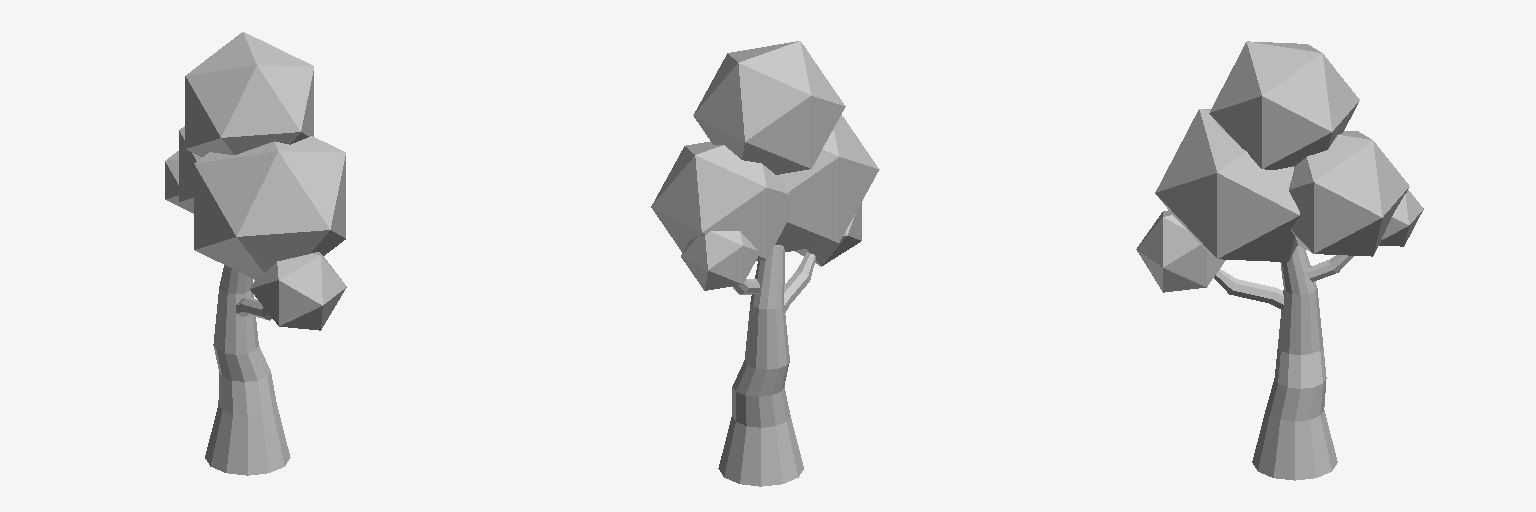
File: Tree2.obj
3 renders of one model, left to right at view 1: azimuth 30°, elevation 25°; view 2: azimuth 150°, elevation 25°; view 3: azimuth 270°, elevation 25°, orthographic.
Parts seen in each view (by area): view 1: Tree2 Leaves3, Tree2 Leaves1, Tree1 Tree2, Tree2 Leave5, Tree2 Leaves2, Tree2 Leaves4; view 2: Tree2 Leaves1, Tree1 Tree2, Tree2 Leaves2, Tree2 Leaves3, Tree2 Leaves4, Tree2 Leave5, Tree2 Branch1; view 3: Tree2 Leaves3, Tree2 Leaves1, Tree1 Tree2, Tree2 Leaves2, Tree2 Leave5, Tree2 Leaves4, Tree2 Branch1, Tree2 Branch.
Boxes of the visible parts, box(x1,y1,x2,y2) form: Tree2 Leaves3: box(194, 136, 345, 279); Tree2 Leaves1: box(185, 32, 313, 156); Tree1 Tree2: box(205, 265, 290, 475); Tree2 Leave5: box(250, 252, 346, 330); Tree2 Leaves2: box(179, 126, 201, 208); Tree2 Leaves4: box(165, 151, 193, 213); Tree2 Leaves1: box(693, 41, 845, 174); Tree1 Tree2: box(718, 245, 803, 486); Tree2 Leaves2: box(651, 141, 790, 260); Tree2 Leaves3: box(775, 114, 879, 251); Tree2 Leaves4: box(681, 231, 757, 290); Tree2 Leave5: box(795, 203, 861, 266); Tree2 Branch1: box(784, 252, 815, 312); Tree2 Leaves3: box(1155, 109, 1299, 261); Tree2 Leaves1: box(1209, 41, 1359, 169); Tree1 Tree2: box(1252, 245, 1337, 480); Tree2 Leaves2: box(1289, 131, 1409, 256); Tree2 Leave5: box(1136, 210, 1225, 292); Tree2 Leaves4: box(1379, 190, 1423, 246); Tree2 Branch1: box(1214, 269, 1283, 309); Tree2 Branch: box(1305, 255, 1353, 281).
Bounding box in the file's own units: 5.24 × 15.59 × 9.83.